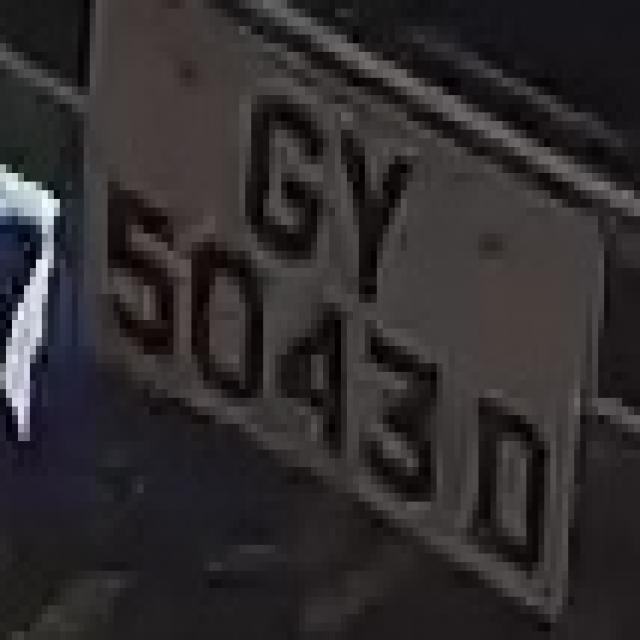0: (180, 182, 275, 406)
3: (364, 311, 436, 519)
4: (275, 277, 371, 493)
5: (96, 147, 179, 389)
D: (461, 380, 556, 606)
G: (233, 69, 329, 268)
Y: (323, 86, 425, 328)
